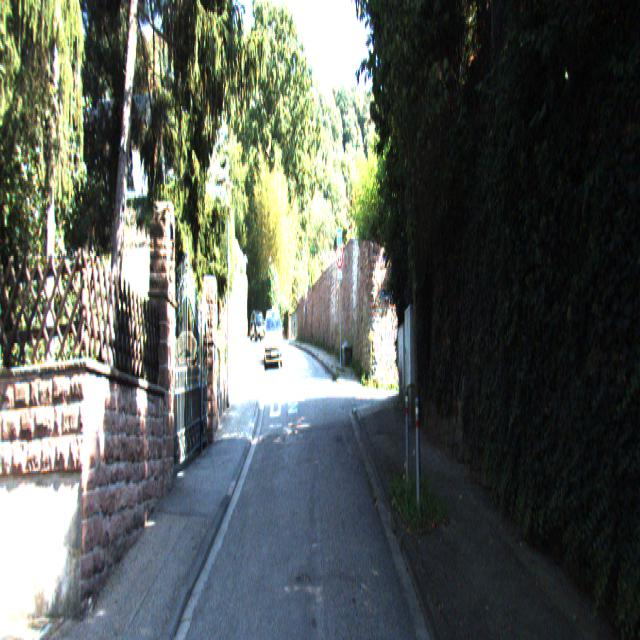Car: (264, 306, 282, 368), (250, 310, 268, 350)
